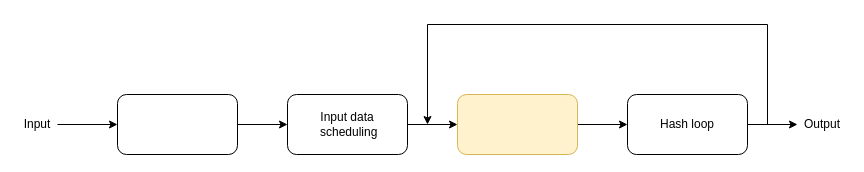
The diagram is 864 pixels wide and 172 high, and some of its shapes have lost their labels. The shapes that lost their labels are listed below. From the top down, each one's centre as x and y in pixels, then its label:
the point at 177,124: Data preprocess
the point at 517,124: Scheduled data expansion
